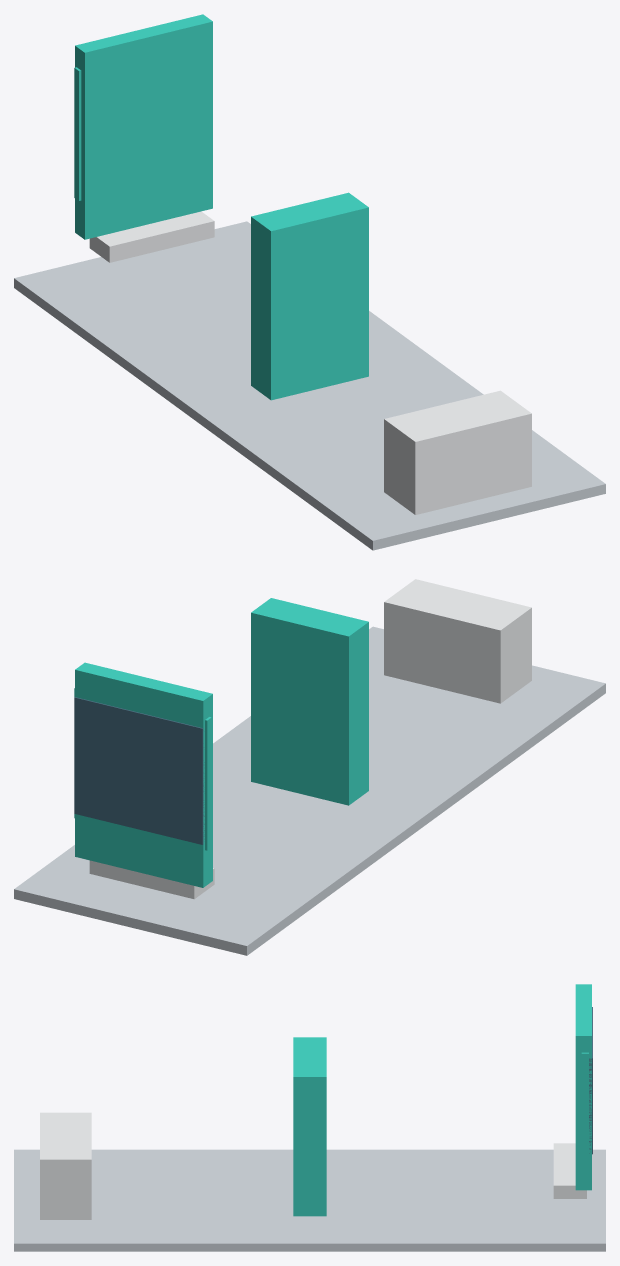
3 views of the same model, one above another, from view 1: azimuth 30°, elevation 25°; view 2: azimuth 150°, elevation 25°; view 3: azimuth 270°, elevation 25° (orthographic). The views are drawn at different scales.
Parts seen in each view (by area): view 1: Exhibition Booth Concept; view 2: Exhibition Booth Concept; view 3: Exhibition Booth Concept.
Boxes of the visible parts, x1=… form: Exhibition Booth Concept: x1=14, y1=14, x2=605, y2=550; Exhibition Booth Concept: x1=14, y1=579, x2=605, y2=955; Exhibition Booth Concept: x1=14, y1=984, x2=605, y2=1251.
Bounding box in the file's own units: 3 × 2.9 × 8.
